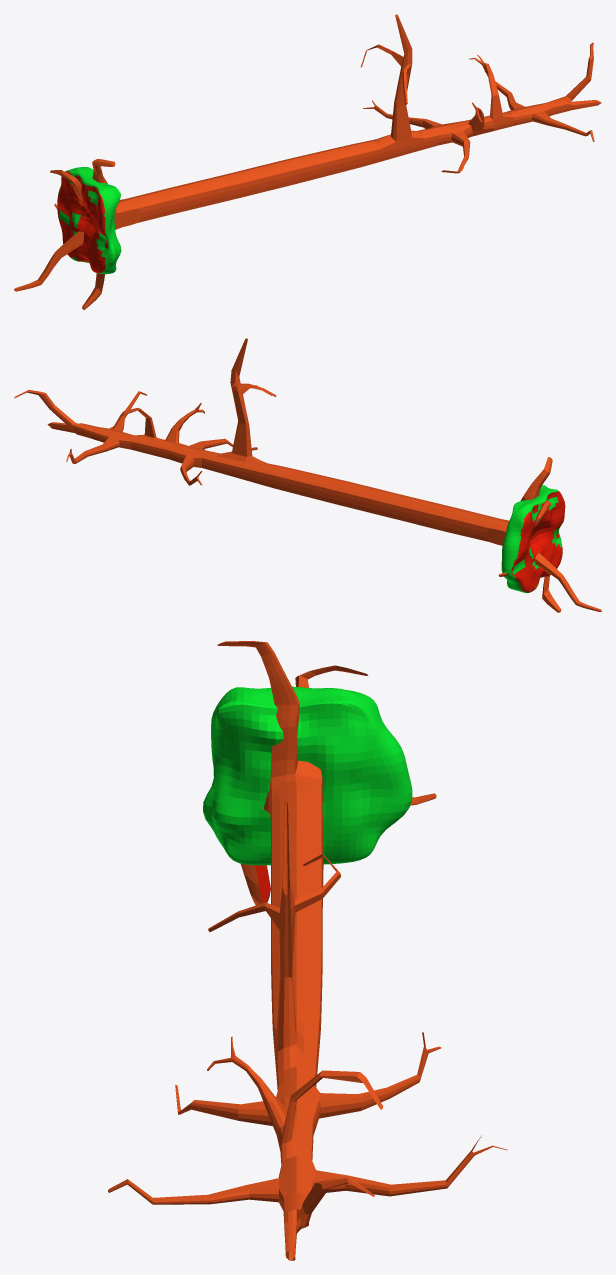
File: KaatunutPuu6.fbx
3 views of the same model, one above another, from view 1: azimuth 30°, elevation 25°; view 2: azimuth 150°, elevation 25°; view 3: azimuth 270°, elevation 25° (orthographic). The views are drawn at different scales.
Visible parts, largest first — view 1: Cube; view 2: Cube; view 3: Cube.
Boxes of the visible parts, box(x1,y1,x2,y2) form: Cube: box(14, 14, 601, 309); Cube: box(14, 338, 601, 612); Cube: box(108, 641, 507, 1260).
Size of the model in its own units: 5090 by 1739 by 1542.
